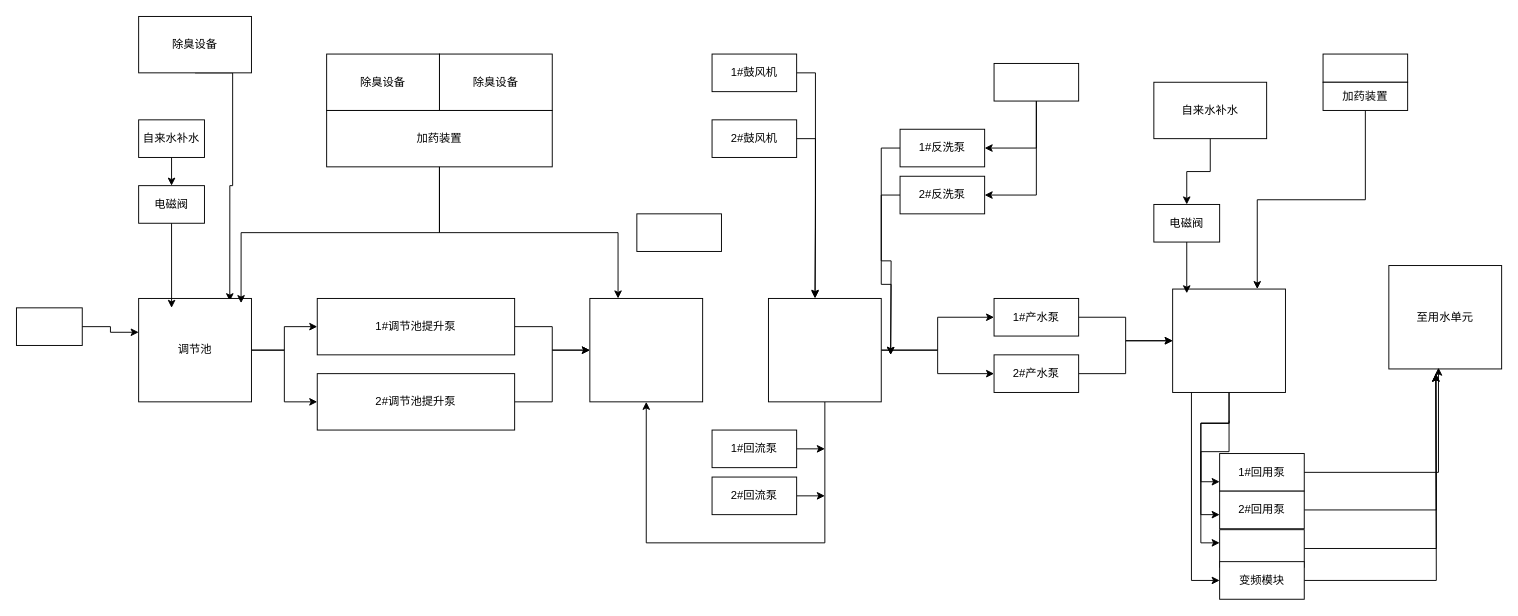
This 1518x616 diagram has some shape labels left out. Here are the shapes that lost their labels. From the top down, the centre of each, then its label:
[1036,82]: 反洗罐
[1365,67]: 次氯酸钠投加
[678,232]: 缺氧气搅拌机
[49,326]: 格栅机
[1228,340]: 中间水池
[646,350]: 缺氧池
[824,350]: MBR膜池
[1261,548]: 3#回用泵
